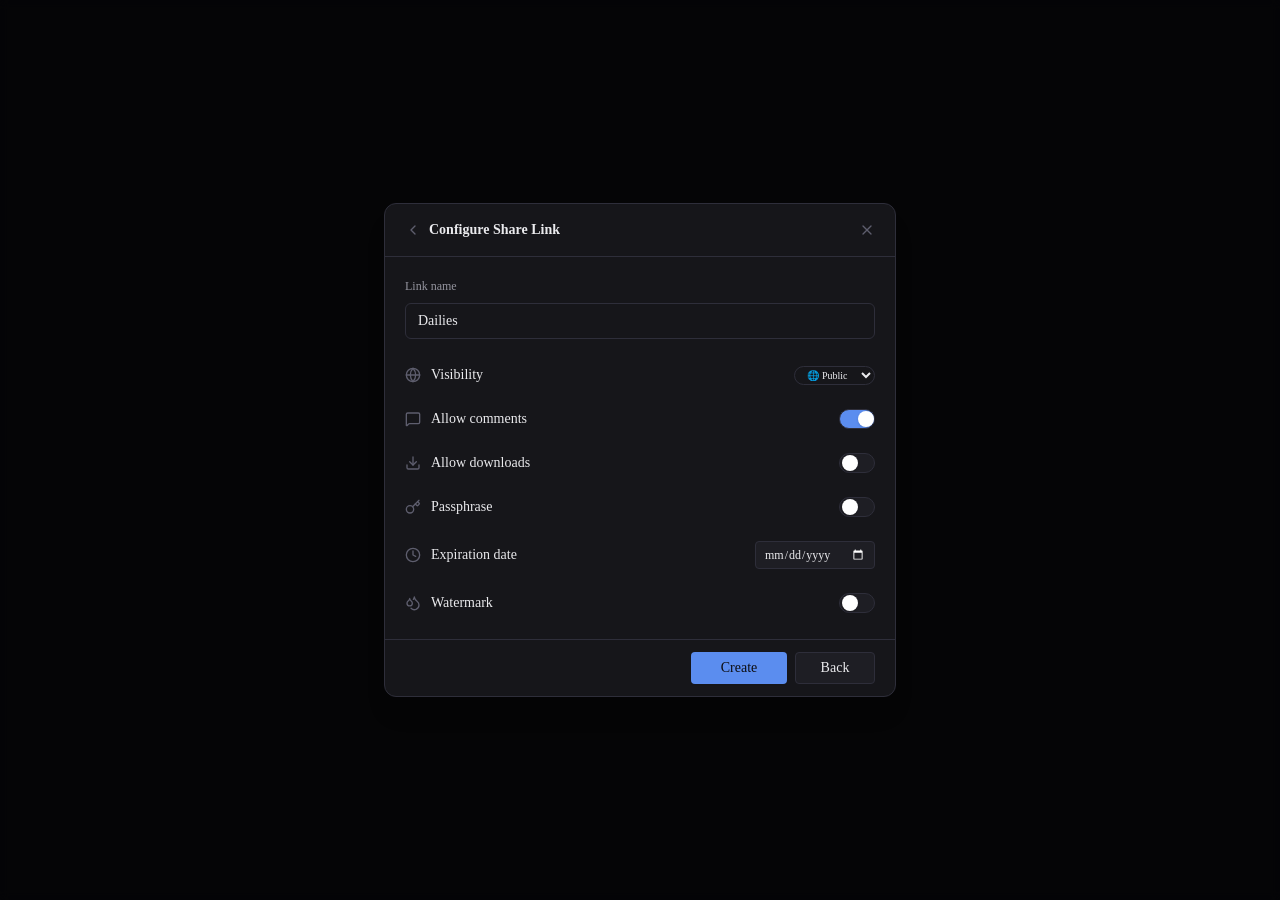
Test case: ShareCreateDialog after Create › stays open and shows the new link with Copy and Close
What coordinates should you click on to do the following:
click the button "Create"
I would click on:
 (739, 668)
Its box is [691,652,787,684].
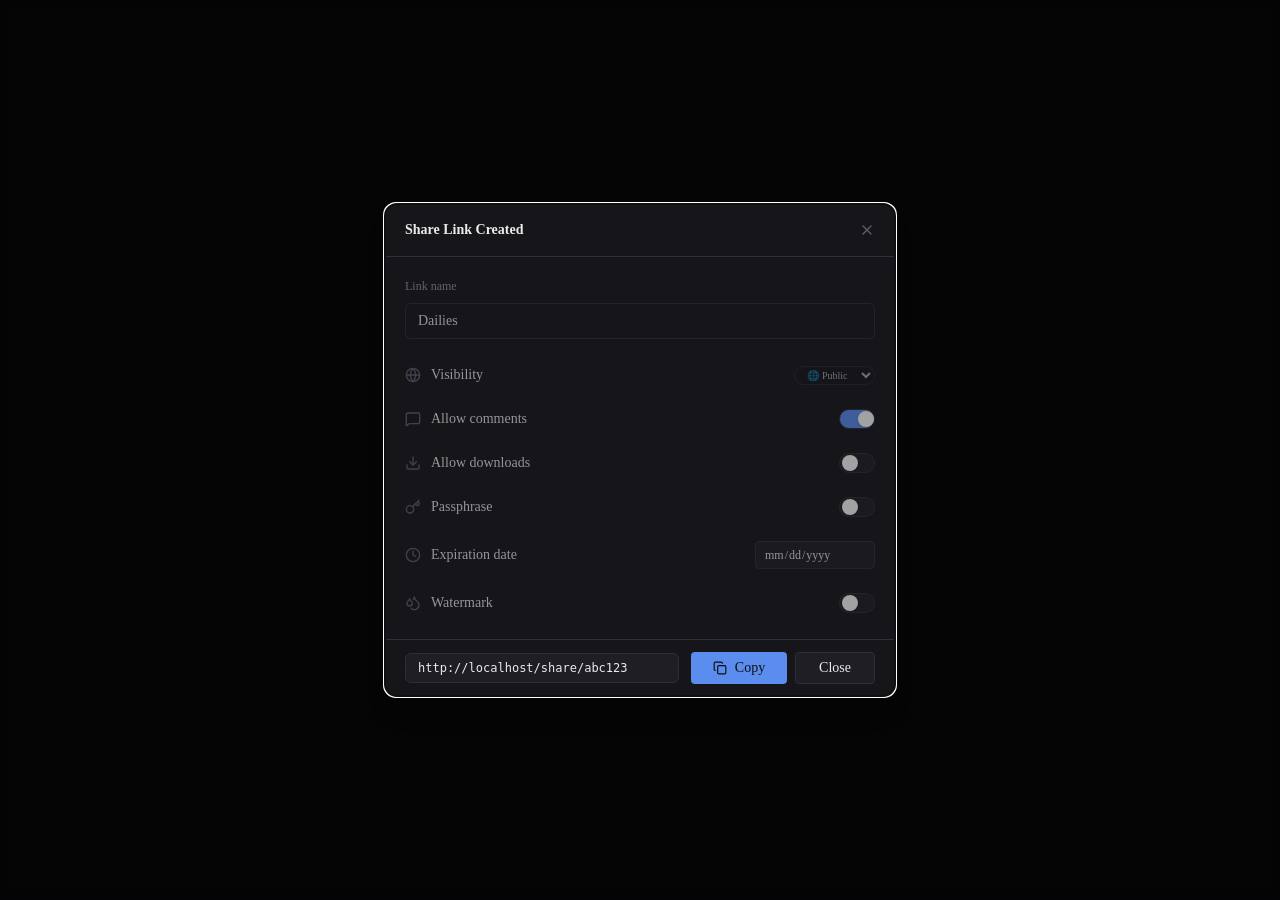
Result: the text "http://localhost/share/abc123" is shown at [405,653,679,683]
Result: the button "Back" is gone
Result: the button "Close" is shown at [795,652,875,684]
